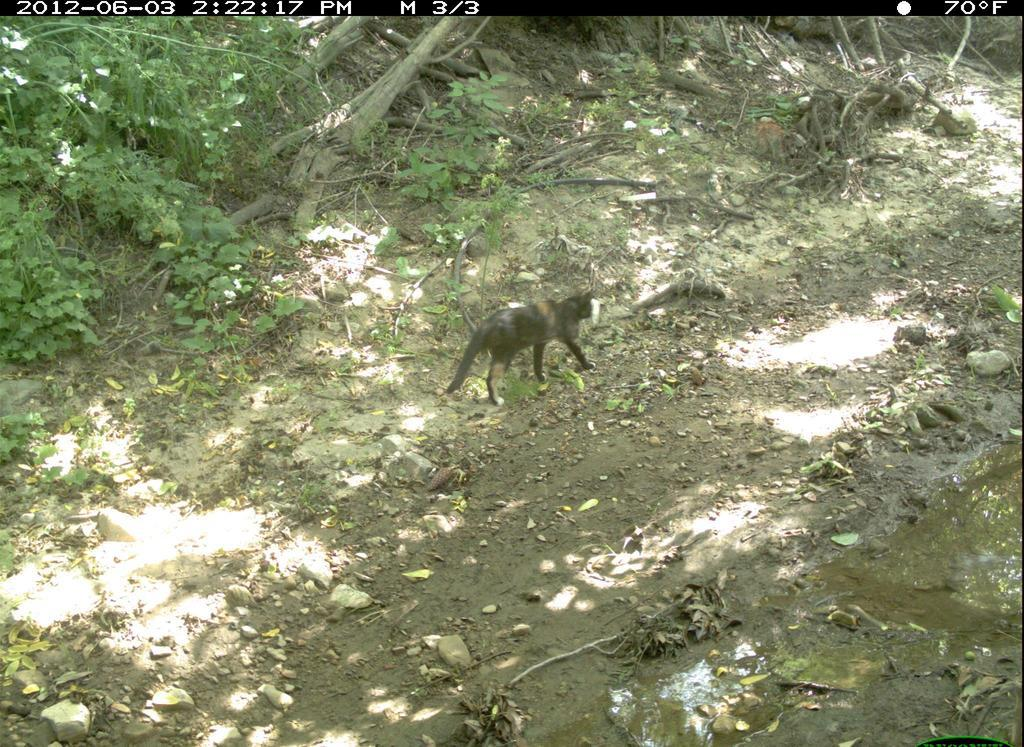cat: (434, 286, 603, 413)
